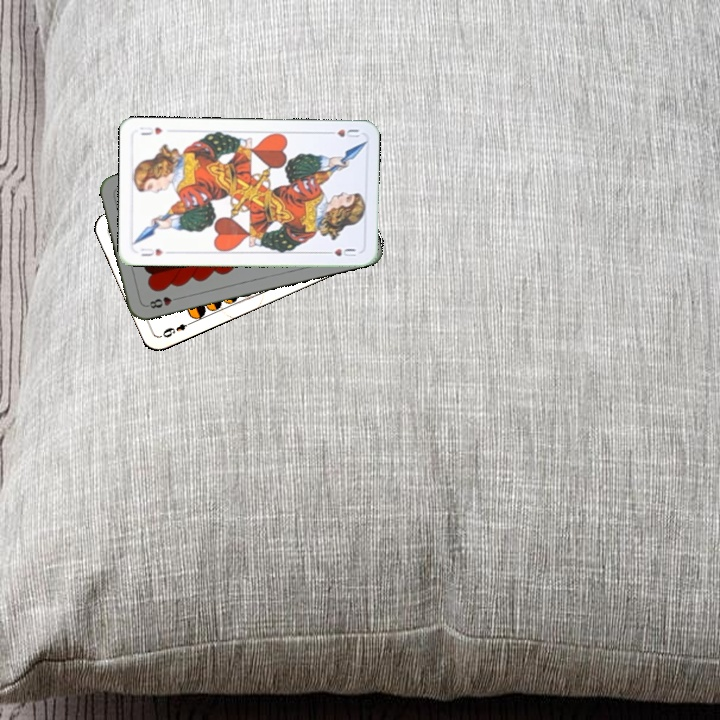E9: (159, 318, 196, 340)
H8: (143, 292, 183, 311)
HU: (323, 125, 362, 140), (137, 244, 166, 258)
